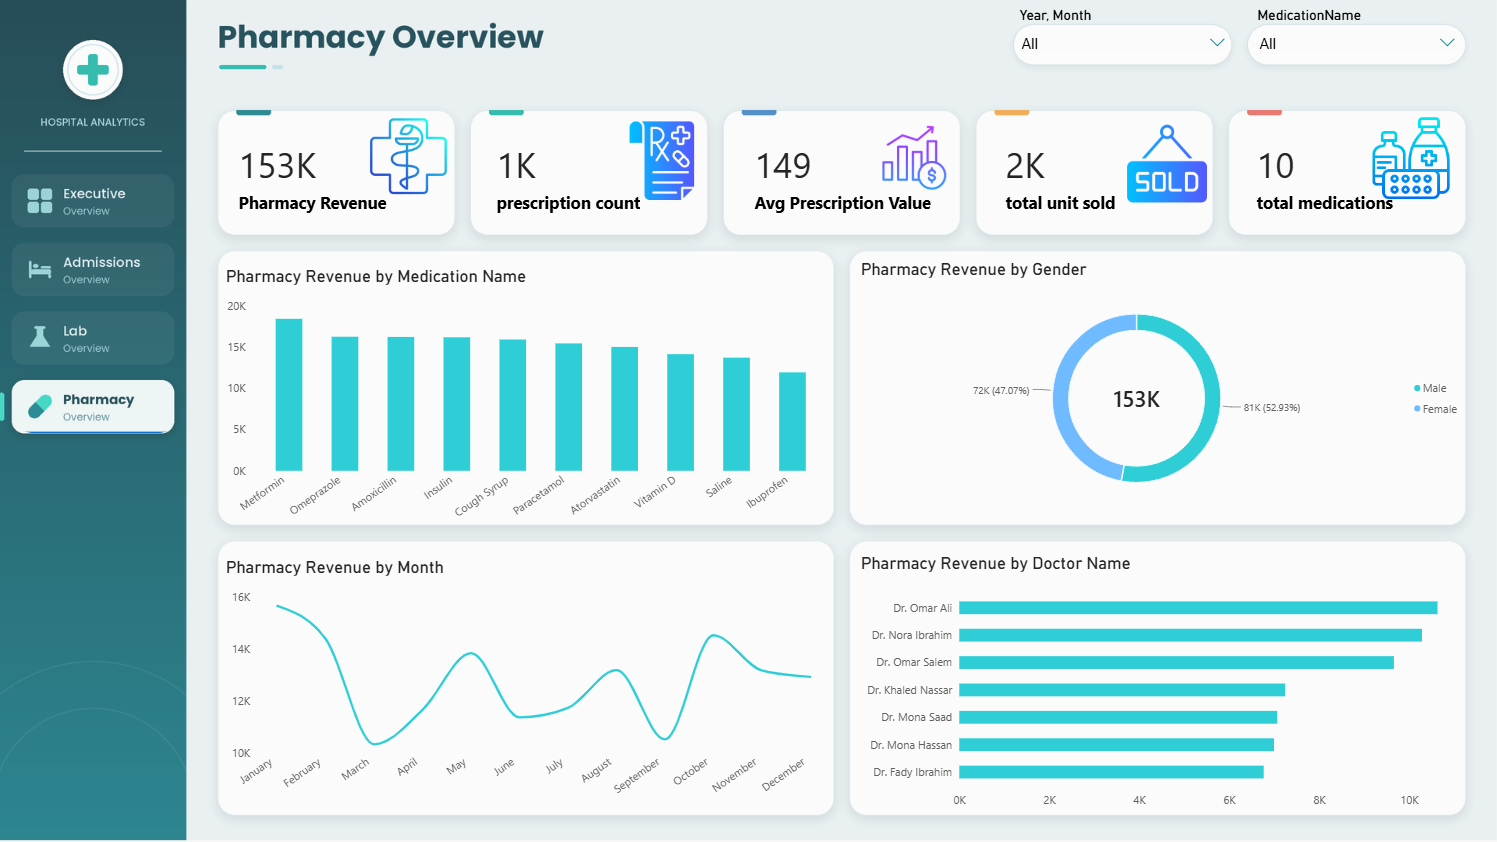

The page's visual inventory and layout, read from the dashboard file:
{"tool":"powerbi","page":{"name":"Pharmacy & Prescriptions","canvas":[1920,1080],"ordinal":3},"visuals":[{"type":"cardVisual","fields":{"Data":["Dax_measures.total prescription"]},"box":[290.2,140.5,314,172.3],"z":0},{"type":"cardVisual","fields":{"Data":["Dax_measures.Avg Prescription Value"]},"box":[951.4,140.5,304.8,172.3],"z":1000},{"type":"cardVisual","fields":{"Data":["Dax_measures.total unit solid"]},"box":[1273.4,140.5,307.4,172.3],"z":2000},{"type":"cardVisual","fields":{"Data":["Dax_measures.total medications"]},"box":[1595.4,140.5,307.4,172.3],"z":3000},{"type":"cardVisual","fields":{"Data":["Dax_measures.perscription count"]},"box":[620.1,140.5,308.7,172.3],"z":4000},{"type":"lineClusteredColumnComboChart","title":"total unit sold & Pharmacy Revenue by Medication Name","fields":{"Category":["fact_prescription.MedicationName"],"Y":["Dax_measures.total unit solid"],"Y2":["Dax_measures.Pharmasy Revenue"]},"box":[303.4,379,773.8,316.7],"z":5000},{"type":"donutChart","fields":{"Category":["dim_patients.Gender"],"Y":["Dax_measures.Pharmacy Revenue"]},"box":[1117,379,785.8,316.7],"z":6000},{"type":"lineChart","fields":{"Category":["DimDate.Date.Variation.Date Hierarchy.Month"],"Y":["Dax_measures.Pharmasy Revenue"]},"box":[303.4,742,773.8,322],"z":7000},{"type":"barChart","title":"Pharmacy Revenue by Doctor Name","fields":{"Category":["dim_doctors.DoctorName"],"Y":["Dax_measures.Pharmasy Revenue"]},"box":[1117,742,785.8,322],"z":8000},{"type":"pageNavigator","box":[10.1,247,262.9,645.8],"z":9000},{"type":"slicer","fields":{"Values":["DimDate.Year","DimDate.Month"]},"box":[1285.8,23.7,287.8,79.1],"z":10000},{"type":"slicer","fields":{"Values":["fact_prescription.MedicationName"]},"box":[1610,23.7,286.3,79.1],"z":11000},{"type":"image","box":[477.9,164.9,142,122.8],"z":11001},{"type":"image","box":[1427.7,160.1,167.3,116.8],"z":11002},{"type":"image","box":[1768.3,151.7,134.8,125.2],"z":11003},{"type":"image","box":[1136.4,144.5,119.2,121.6],"z":11004},{"type":"image","box":[805.3,133.6,122.8,179.4],"z":11005}]}

Visuals, with their boxes on the page's 1920x1080 design canvas (x1, y1, x2, y2). These are canvas units, not pixel positions in the 1497x842 screenshot, which may show the page scaled, cropped or inside an application window:
cardVisual - Dax_measures.total prescription: <region>290, 140, 604, 313</region>
cardVisual - Dax_measures.Avg Prescription Value: <region>951, 140, 1256, 313</region>
cardVisual - Dax_measures.total unit solid: <region>1273, 140, 1581, 313</region>
cardVisual - Dax_measures.total medications: <region>1595, 140, 1903, 313</region>
cardVisual - Dax_measures.perscription count: <region>620, 140, 929, 313</region>
"total unit sold & Pharmacy Revenue by Medication Name" lineClusteredColumnComboChart: <region>303, 379, 1077, 696</region>
donutChart - dim_patients.Gender x Dax_measures.Pharmacy Revenue: <region>1117, 379, 1903, 696</region>
lineChart - DimDate.Date.Variation.Date Hierarchy.Month x Dax_measures.Pharmasy Revenue: <region>303, 742, 1077, 1064</region>
"Pharmacy Revenue by Doctor Name" barChart: <region>1117, 742, 1903, 1064</region>
pageNavigator: <region>10, 247, 273, 893</region>
slicer - DimDate.Year x DimDate.Month: <region>1286, 24, 1574, 103</region>
slicer - fact_prescription.MedicationName: <region>1610, 24, 1896, 103</region>
image: <region>478, 165, 620, 288</region>
image: <region>1428, 160, 1595, 277</region>
image: <region>1768, 152, 1903, 277</region>
image: <region>1136, 144, 1256, 266</region>
image: <region>805, 134, 928, 313</region>
